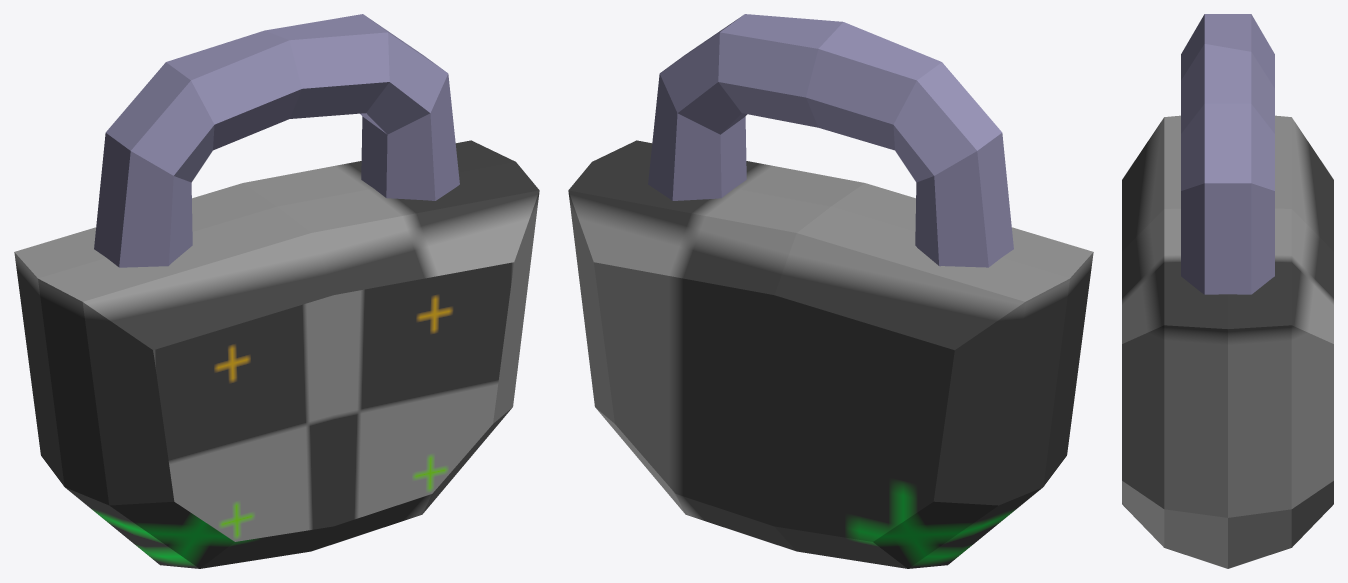
File: Padlock.fbx
3 renders of one model, left to right at view 1: azimuth 30°, elevation 25°; view 2: azimuth 150°, elevation 25°; view 3: azimuth 270°, elevation 25°, orthographic. The views are drawn at different scales.
Parts seen in each view (by area): view 1: Padlock; view 2: Padlock; view 3: Padlock.
Part boxes in pixels (x1,y1,x2,y2): Padlock: (14,14,539,568); Padlock: (568,14,1093,568); Padlock: (1122,14,1333,568).
Bounding box in the file's own units: 602 × 621 × 247.
